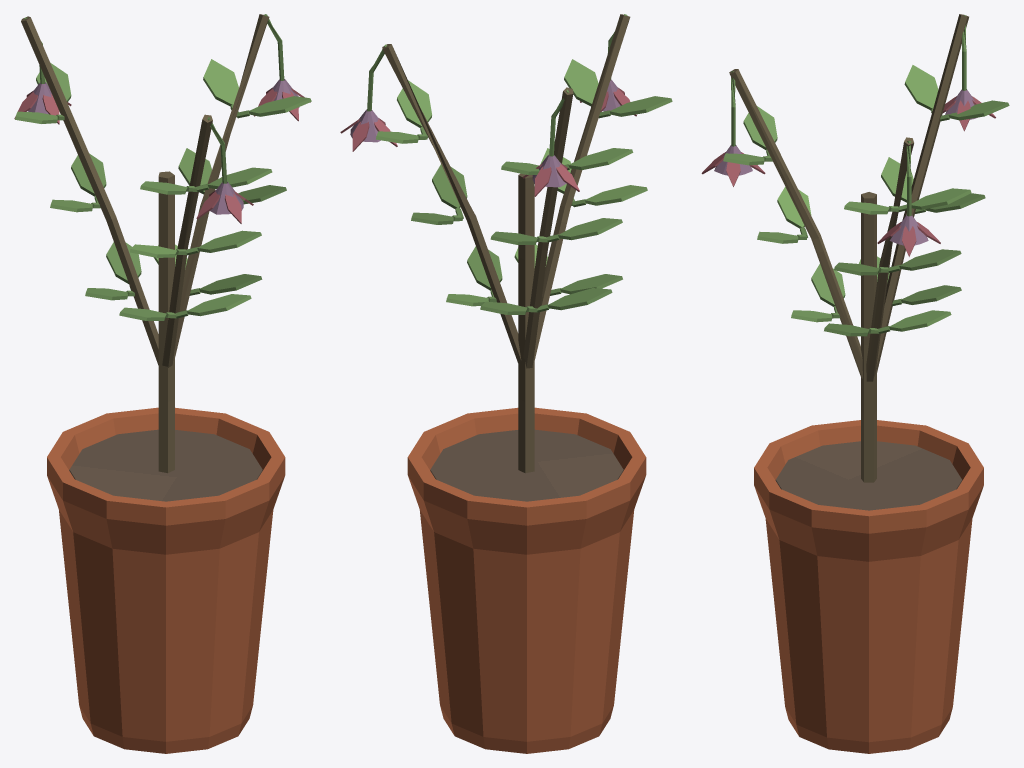
Rendered from fuchsia.glb.
3 renders of one model, left to right at view 1: azimuth 30°, elevation 25°; view 2: azimuth 150°, elevation 25°; view 3: azimuth 270°, elevation 25°, orthographic. The views are drawn at different scales.
Parts seen in each view (by area): view 1: fuchsia/review-terra-vessel, fuchsia/review-rooted-soil, fuchsia/petiole-001, fuchsia/stem-022, fuchsia/stem-042, fuchsia/stem-002, fuchsia/leaf-014, fuchsia/leaf-046, fuchsia/leaf-050, fuchsia/leaf-012, fuchsia/leaf-004, fuchsia/leaf-054 (+4 smaller); view 2: fuchsia/review-terra-vessel, fuchsia/review-rooted-soil, fuchsia/petiole-001, fuchsia/stem-042, fuchsia/stem-002, fuchsia/stem-022, fuchsia/leaf-054, fuchsia/leaf-012, fuchsia/leaf-008, fuchsia/leaf-026, fuchsia/leaf-030, fuchsia/leaf-034 (+4 smaller); view 3: fuchsia/review-terra-vessel, fuchsia/review-rooted-soil, fuchsia/petiole-001, fuchsia/stem-042, fuchsia/stem-022, fuchsia/stem-002, fuchsia/leaf-034, fuchsia/leaf-006, fuchsia/leaf-010, fuchsia/leaf-014, fuchsia/leaf-024, fuchsia/leaf-048 (+4 smaller).
Boxes of the visible parts, box(x1,y1,x2,y2) form: fuchsia/review-terra-vessel: box(47, 407, 285, 753); fuchsia/review-rooted-soil: box(69, 429, 262, 501); fuchsia/petiole-001: box(158, 171, 174, 473); fuchsia/stem-022: box(21, 16, 158, 365); fuchsia/stem-042: box(162, 114, 212, 367); fuchsia/stem-002: box(175, 14, 269, 356); fuchsia/leaf-014: box(203, 59, 238, 106); fuchsia/leaf-046: box(187, 294, 251, 316); fuchsia/leaf-050: box(197, 230, 261, 252); fuchsia/leaf-012: box(248, 96, 311, 116); fuchsia/leaf-004: box(199, 274, 262, 294); fuchsia/leaf-054: box(208, 167, 272, 188); fuchsia/review-terra-vessel: box(407, 407, 646, 753); fuchsia/review-rooted-soil: box(430, 429, 623, 501); fuchsia/petiole-001: box(518, 173, 534, 473); fuchsia/stem-042: box(534, 14, 630, 359); fuchsia/stem-002: box(382, 44, 521, 362); fuchsia/stem-022: box(523, 87, 573, 368); fuchsia/leaf-054: box(564, 59, 598, 106); fuchsia/leaf-012: box(397, 80, 431, 127); fuchsia/leaf-008: box(432, 164, 467, 209); fuchsia/leaf-026: box(547, 288, 612, 310); fuchsia/leaf-030: box(558, 218, 622, 240); fuchsia/leaf-034: box(568, 148, 633, 169); fuchsia/review-terra-vessel: box(754, 420, 983, 753); fuchsia/review-rooted-soil: box(775, 441, 962, 510); fuchsia/petiole-001: box(861, 192, 876, 482); fuchsia/stem-042: box(729, 69, 862, 378); fuchsia/stem-022: box(876, 14, 968, 372); fuchsia/stem-002: box(866, 137, 913, 381); fuchsia/leaf-034: box(904, 65, 938, 110); fuchsia/leaf-006: box(889, 310, 951, 331); fuchsia/leaf-010: box(899, 249, 961, 270); fuchsia/leaf-014: box(911, 188, 971, 209); fuchsia/leaf-024: box(901, 285, 961, 304); fuchsia/leaf-048: box(777, 186, 811, 228).
Bounding box in the file's own units: 0.2711 × 0.6047 × 0.2545.
Materials: 7 (7 with a texture image).
